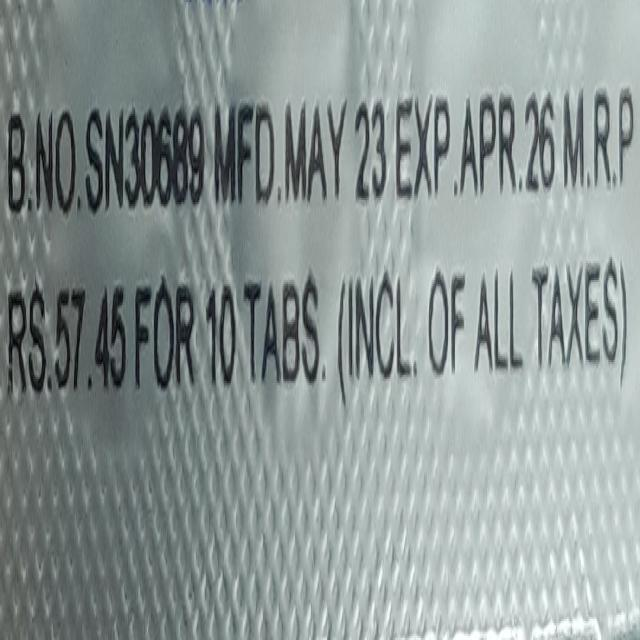sentence: (5, 255, 628, 409), (8, 85, 634, 216)
